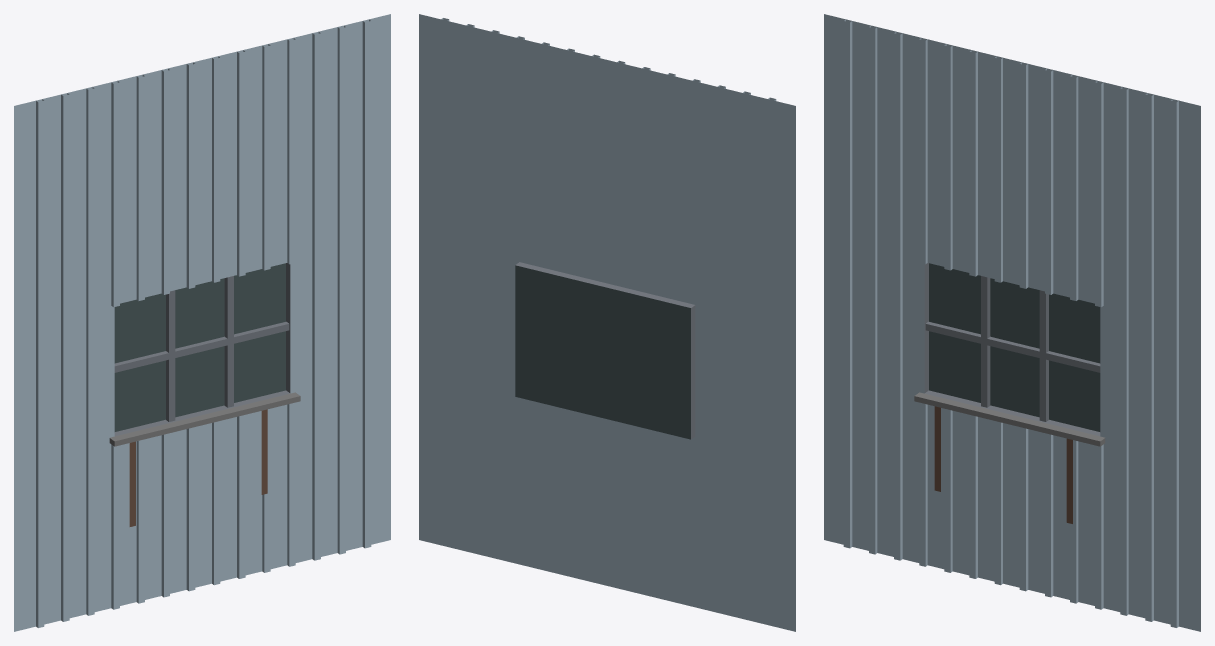
Rendered from mid-w1_close.fbx.
3 renders of one model, left to right at view 1: azimuth 30°, elevation 25°; view 2: azimuth 150°, elevation 25°; view 3: azimuth 330°, elevation 25°, orthographic.
Parts seen in each view (by area): view 1: a2004/200/mid-w1_close; view 2: a2004/200/mid-w1_close; view 3: a2004/200/mid-w1_close.
Part boxes in pixels (left/top/right/bottom): a2004/200/mid-w1_close: left=14, top=14, right=390, bottom=631; a2004/200/mid-w1_close: left=419, top=14, right=795, bottom=631; a2004/200/mid-w1_close: left=824, top=14, right=1200, bottom=631.
Bounding box in the file's own units: 3 × 4 × 0.13.
